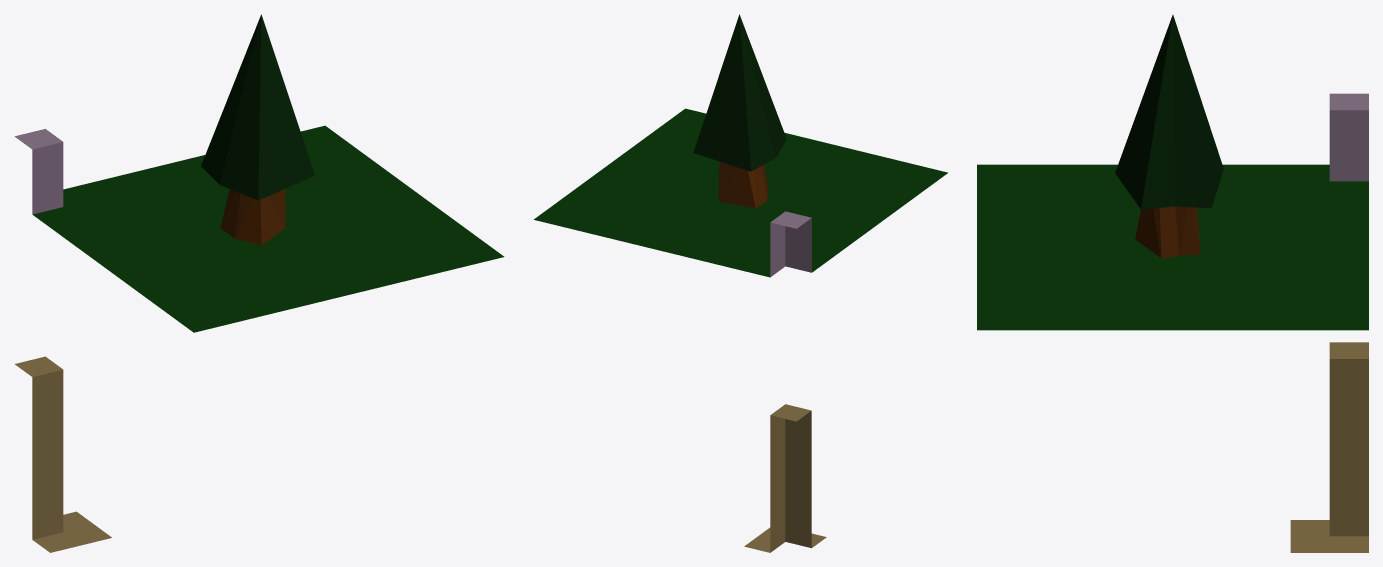
Rendered from Inner_Corner_Wall_Roof_Outer_Corner.obj.
3 views of the same model, side by side, from view 1: azimuth 30°, elevation 25°; view 2: azimuth 150°, elevation 25°; view 3: azimuth 270°, elevation 25° (orthographic). The views are drawn at different scales.
Visible parts, largest first — view 1: Inner_Corner_Wall_Roof_Outer_Corner; view 2: Inner_Corner_Wall_Roof_Outer_Corner; view 3: Inner_Corner_Wall_Roof_Outer_Corner.
Part boxes in pixels (bbox=[...]): Inner_Corner_Wall_Roof_Outer_Corner: bbox=[14, 14, 504, 552]; Inner_Corner_Wall_Roof_Outer_Corner: bbox=[533, 14, 947, 552]; Inner_Corner_Wall_Roof_Outer_Corner: bbox=[977, 14, 1368, 552].
Bounding box in the file's own units: 1 × 1.66 × 1.
